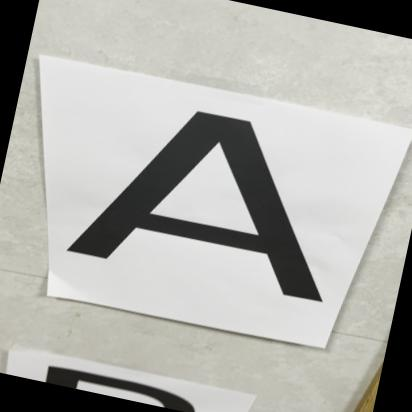seat: (73, 86, 364, 320)
